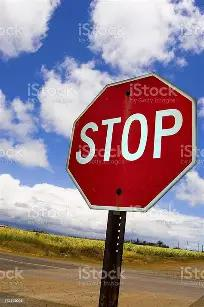Stop: (68, 77, 191, 210)
